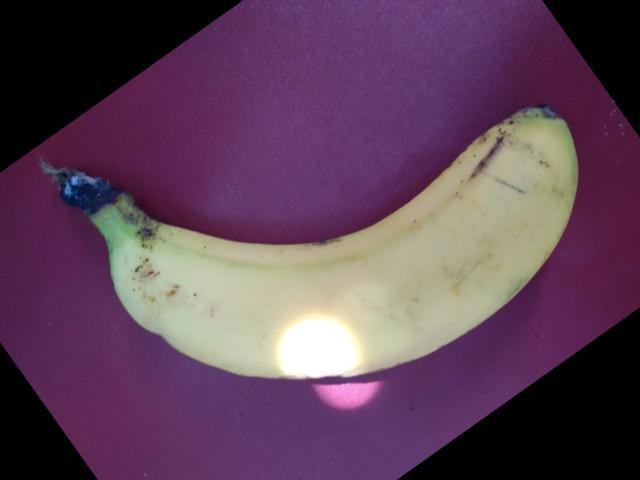freshripe: (108, 98, 612, 399)
